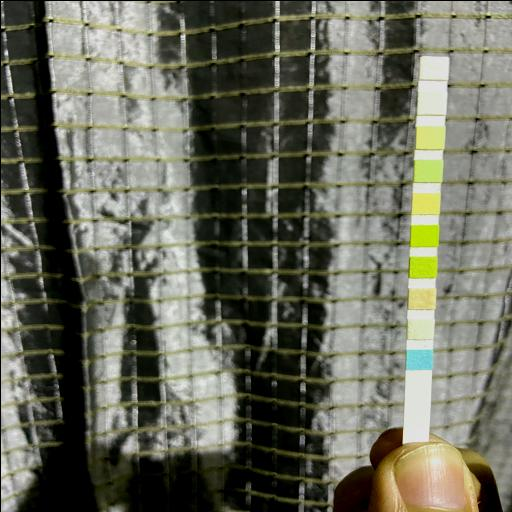Bilirubin: (409, 320, 431, 338)
Blood: (412, 226, 436, 246)
Glucose: (406, 350, 430, 367)
Ketone: (410, 289, 432, 307)
Leukocytes: (420, 58, 444, 76)
Nitrite: (418, 92, 442, 112)
Protein: (416, 160, 440, 180)
SpGravity: (411, 258, 433, 276)
Urobilinogen: (416, 127, 440, 148)
pH: (414, 194, 436, 212)
strip: (402, 57, 448, 439)
